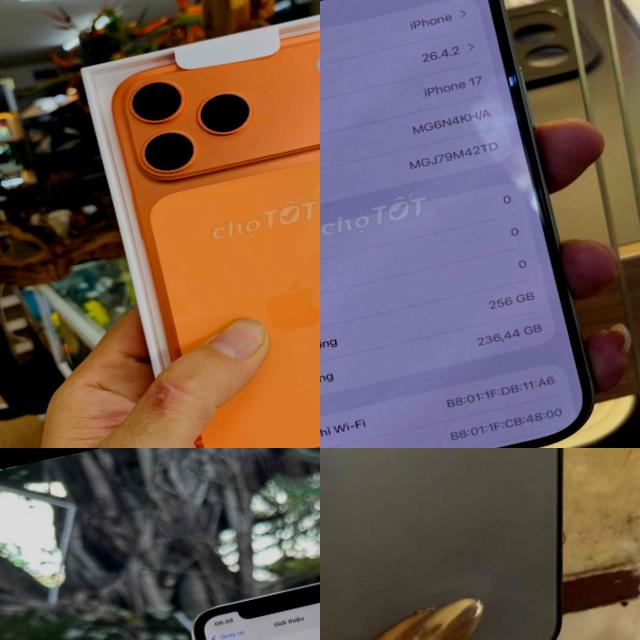gen_12_13: (320, 448, 640, 640)
gen_17: (320, 0, 609, 448), (76, 10, 320, 448)
